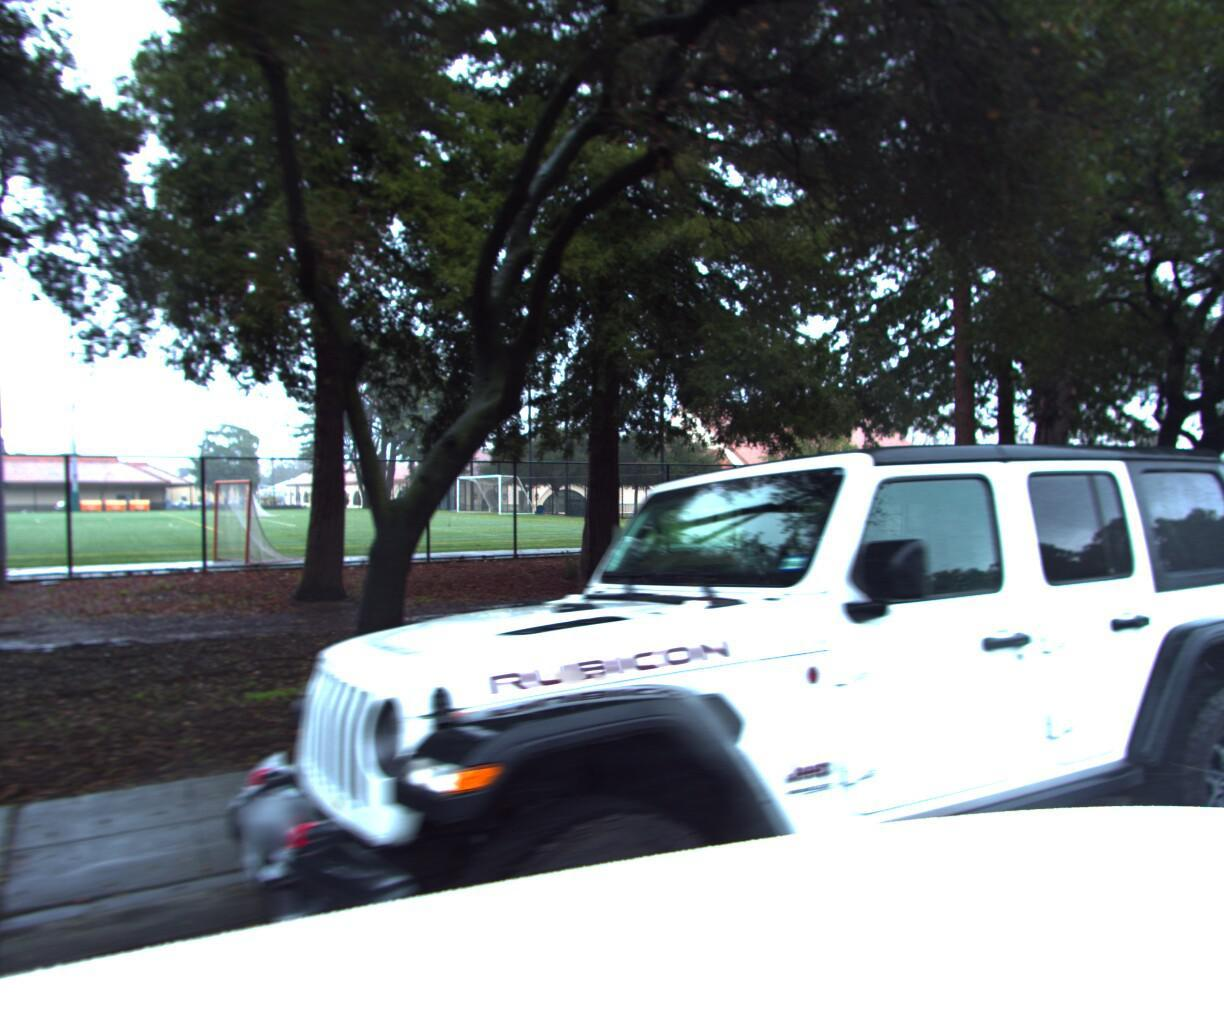car: (194, 398, 1224, 1024)
